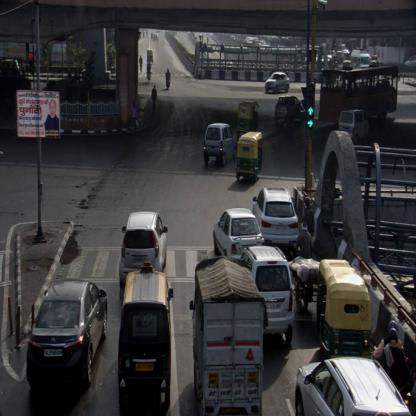bus: (319, 65, 399, 121), (350, 49, 372, 67)
car: (26, 278, 107, 386), (117, 270, 173, 404), (295, 354, 413, 416), (240, 245, 295, 350), (118, 210, 168, 287), (253, 186, 301, 256), (213, 206, 264, 260), (203, 120, 237, 165), (338, 110, 368, 143), (274, 97, 306, 124), (265, 71, 289, 94)
motorcycle: (295, 225, 314, 311), (164, 68, 172, 89), (145, 63, 152, 84)
truck: (189, 258, 263, 415)
